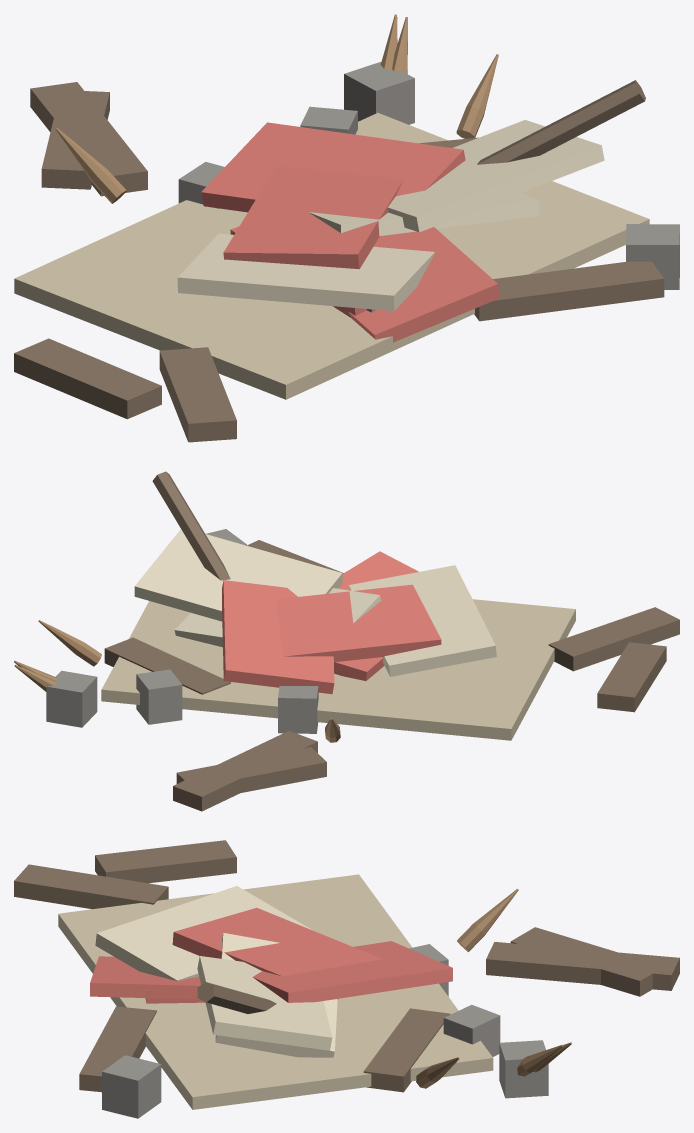
The model's file is ws_ruin_siege_tent.glb.
The picture shows the model from 3 angles, top to bottom: view 1: azimuth 30°, elevation 25°; view 2: azimuth 150°, elevation 25°; view 3: azimuth 270°, elevation 25°; orthographic projection. The views are drawn at different scales.
Visible parts, largest first — view 1: ws_ruin_siege_tent; view 2: ws_ruin_siege_tent; view 3: ws_ruin_siege_tent.
Boxes of the visible parts, x1,y1,x2,y2 form: ws_ruin_siege_tent: (14, 14, 679, 442); ws_ruin_siege_tent: (14, 471, 679, 811); ws_ruin_siege_tent: (14, 840, 679, 1118).
Size of the model in its own units: 1.74 by 0.4249 by 1.9.
